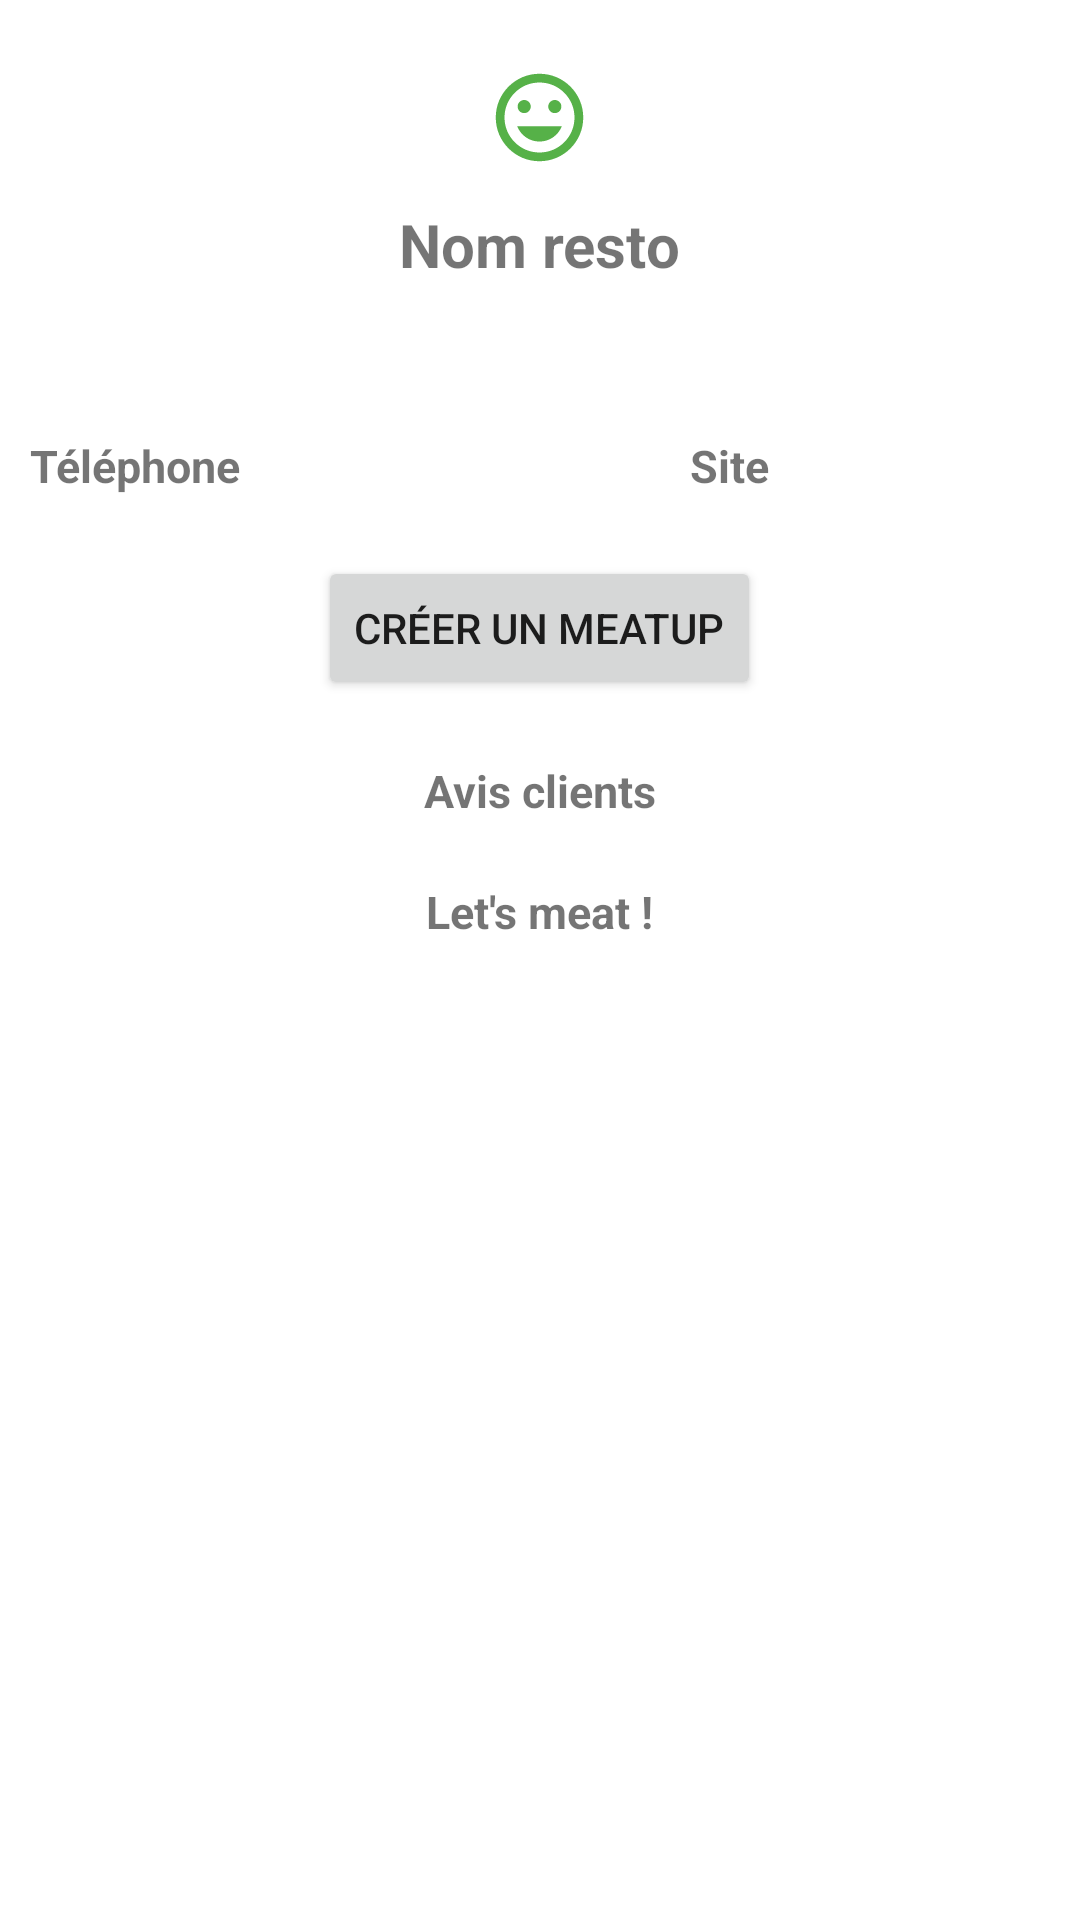

Where icons sit on this 1080px x 1920px app screen, as detection(x1, y1, x2, y2):
happy faces: detection(495, 73, 584, 162)
